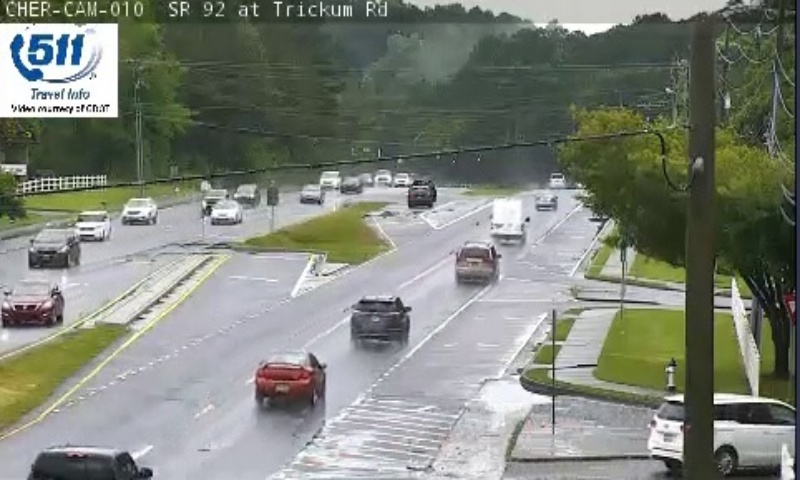car: (255, 351, 325, 400), (350, 295, 410, 341), (455, 241, 498, 281), (534, 191, 557, 211)
van: (491, 198, 524, 240)
